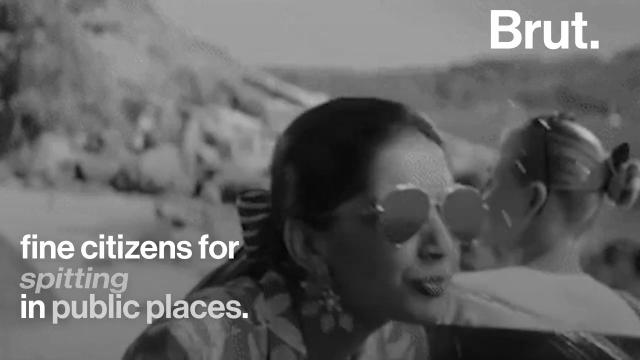spit: (328, 136, 637, 360)
